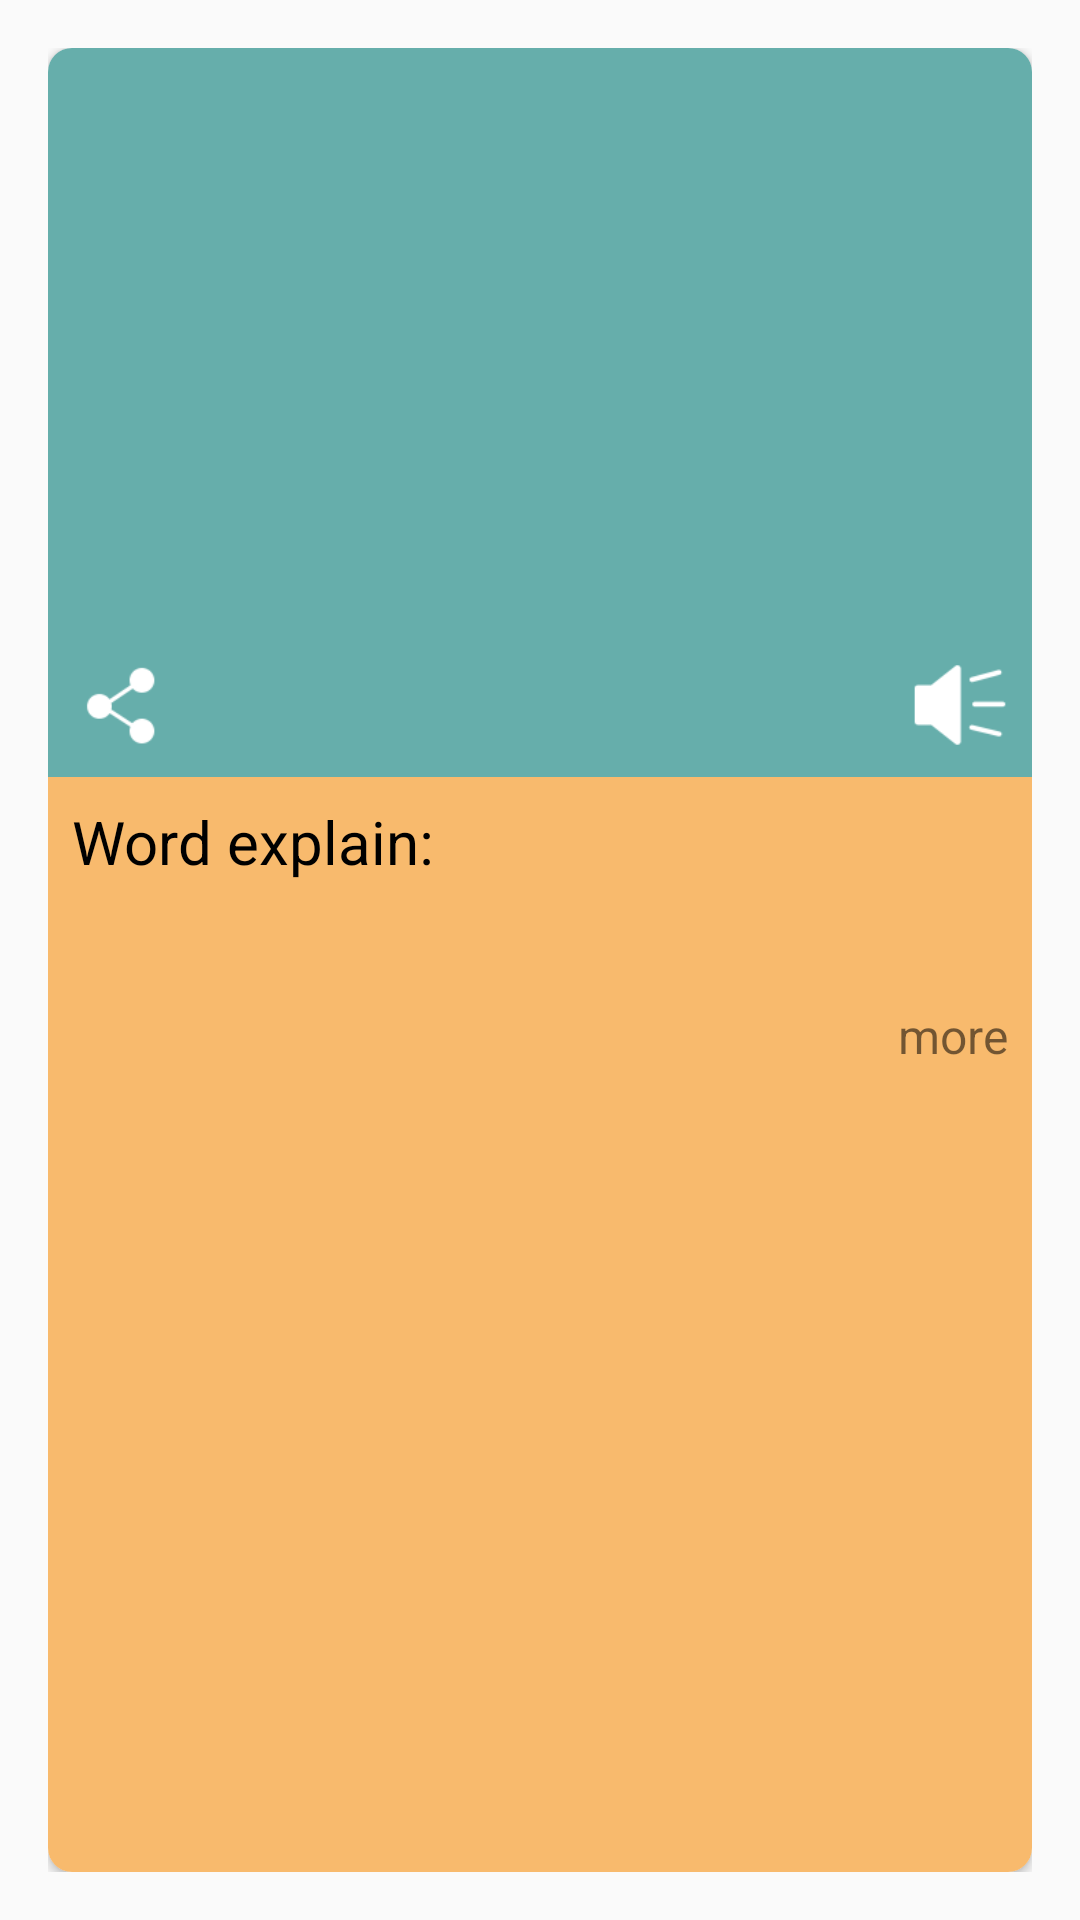

Icon bounding boxes for this 1080*1920 phone screenshot, format (x1, y1, x2, y2):
word result voice click: (914, 665, 1006, 745)
yd share press: (87, 668, 155, 744)
